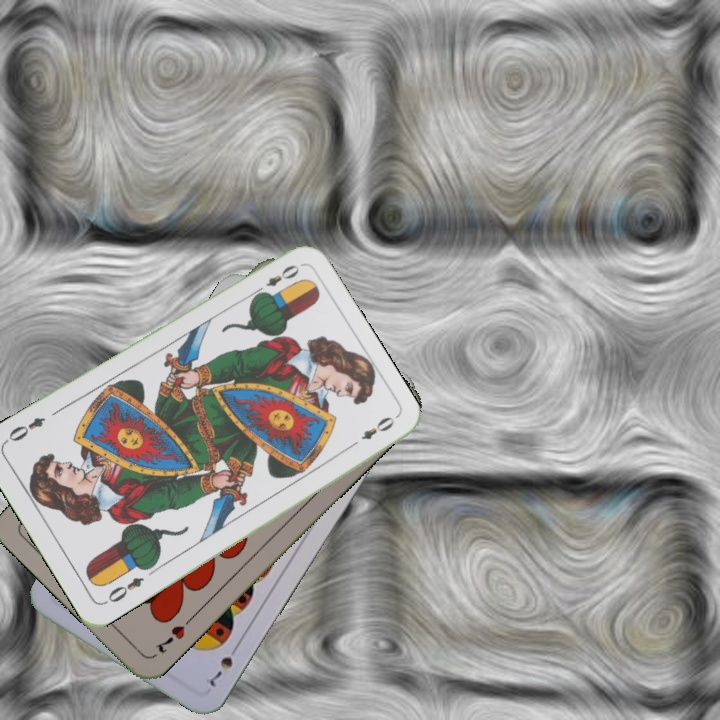EO: (249, 260, 303, 299), (100, 573, 147, 607)
H7: (152, 613, 196, 656)
S7: (205, 639, 242, 690)
